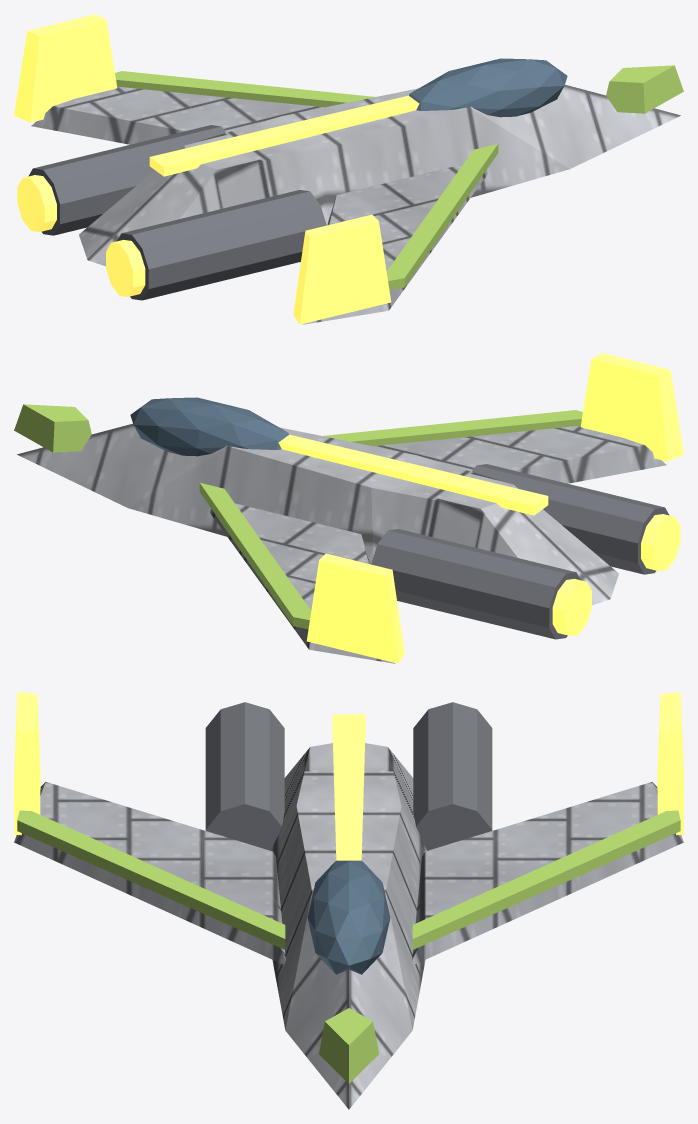
File: fighter_p3_ember.glb
3 renders of one model, top to bottom at view 1: azimuth 30°, elevation 25°; view 2: azimuth 150°, elevation 25°; view 3: azimuth 270°, elevation 25°, orthographic. The views are drawn at different scales.
Bounding box in the file's own units: 12.3 × 2.17 × 10.
6 materials, 2 textured.
